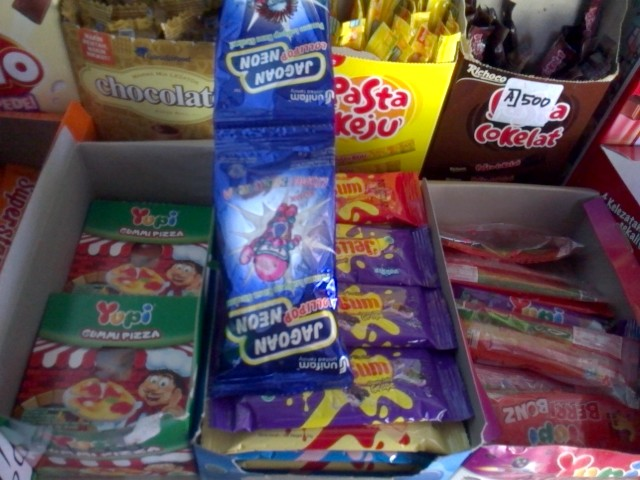jagoan neon: (214, 124, 353, 398), (214, 1, 334, 124)
